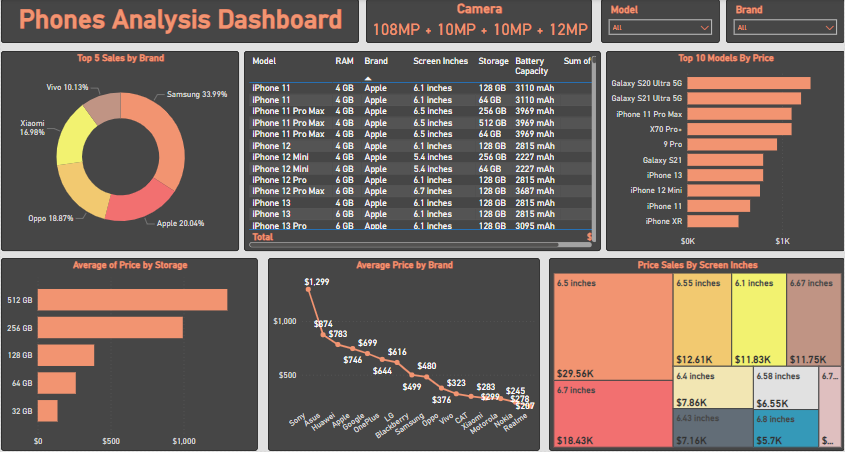

What the dashboard file says about the page in this screenshot:
{"tool":"powerbi","page":{"name":"Page 1","canvas":[1400,750],"ordinal":0},"visuals":[{"type":"clusteredBarChart","title":"Average of Price by Storage ","fields":{"Y":["Avg(Mobile phone price.Price ($))"],"Category":["Mobile phone price.Storage "]},"box":[0,429.8,426.4,320.2],"z":0},{"type":"clusteredBarChart","title":"Top 10 Models By Price","fields":{"Y":["Avg(Mobile phone price.Price ($))"],"Category":["Mobile phone price.Model"]},"box":[1003.9,86.3,396.6,331.9],"z":1000},{"type":"lineChart","title":"Average Price by Brand","fields":{"Y":["Avg(Mobile phone price.Price ($))"],"Category":["Mobile phone price.Brand"]},"box":[443,429.8,451.3,320.2],"z":2000},{"type":"donutChart","title":"Top 5 Sales by Brand","fields":{"Category":["Mobile phone price.Brand"],"Y":["Sum(Mobile phone price.Price ($))"]},"box":[0,86.3,394.9,331.9],"z":3000},{"type":"treemap","title":"Price Sales By Screen Inches","fields":{"Group":["Mobile phone price.Screen Inches"],"Values":["Sum(Mobile phone price.Price ($))"]},"box":[909.3,429.8,491.2,320.2],"z":4000},{"type":"tableEx","fields":{"Values":["Mobile phone price.Model","Mobile phone price.RAM ","Mobile phone price.Brand","Mobile phone price.Screen Inches","Mobile phone price.Storage ","Mobile phone price.Battery Capacity","Sum(Mobile phone price.Price ($))"]},"box":[403.2,86.3,592.4,331.9],"z":5000},{"type":"textbox","box":[0,0,594,73],"z":6000},{"type":"card","title":"Camera","fields":{"Values":["Min(Mobile phone price.Camera (MP))"]},"box":[605.6,0,375,73],"z":7000},{"type":"slicer","fields":{"Values":["Mobile phone price.Brand"]},"box":[1203,0,197.5,73],"z":8000},{"type":"slicer","fields":{"Values":["Mobile phone price.Model"]},"box":[995.6,0,197.5,73],"z":9000}]}

Visuals, with their boxes in screenshot pixels (x1, y1, x2, y2), scaled from the page's 1400x750 canvas onto the 845x452 screenshot:
"Average of Price by Storage " clusteredBarChart: select_region(0, 259, 257, 451)
"Top 10 Models By Price" clusteredBarChart: select_region(606, 52, 844, 252)
"Average Price by Brand" lineChart: select_region(267, 259, 540, 451)
"Top 5 Sales by Brand" donutChart: select_region(0, 52, 238, 252)
"Price Sales By Screen Inches" treemap: select_region(549, 259, 844, 451)
tableEx - Mobile phone price.Model x Mobile phone price.RAM : select_region(243, 52, 601, 252)
textbox: select_region(0, 0, 359, 44)
"Camera" card: select_region(366, 0, 592, 44)
slicer - Mobile phone price.Brand: select_region(726, 0, 844, 44)
slicer - Mobile phone price.Model: select_region(601, 0, 720, 44)
